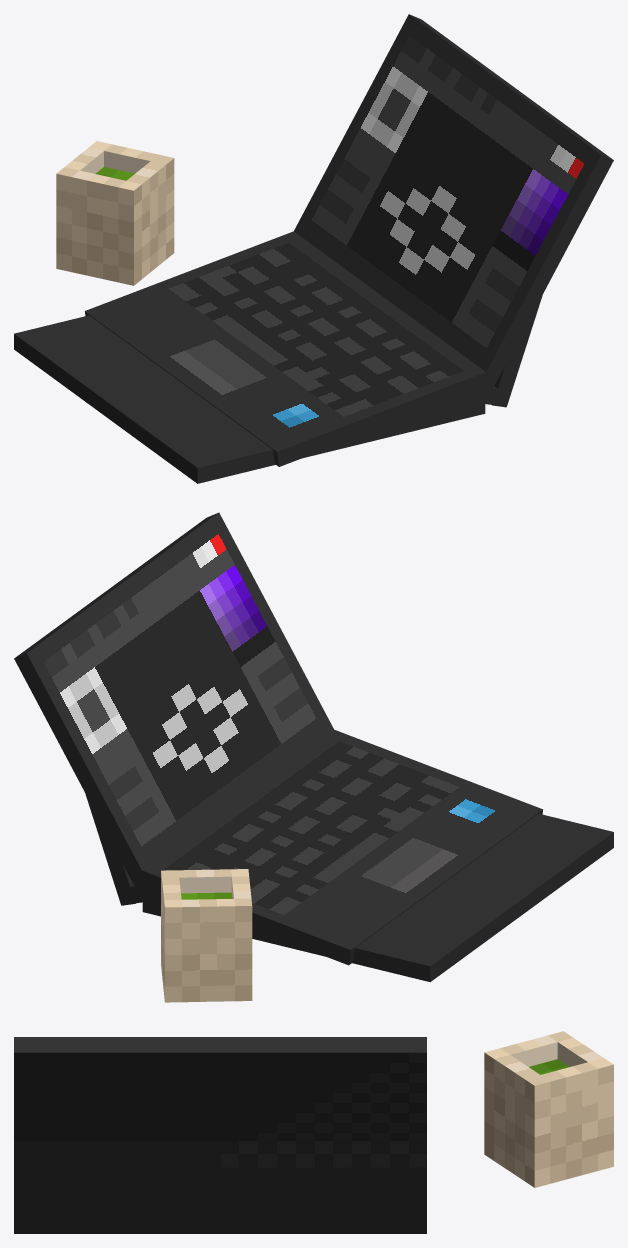
The model's file is pixel_laptop.glb.
3 renders of one model, top to bottom at view 1: azimuth 30°, elevation 25°; view 2: azimuth 150°, elevation 25°; view 3: azimuth 270°, elevation 25°, orthographic. The views are drawn at different scales.
Parts seen in each view (by area): view 1: cube_4, cube_0, cube_1, cube_10, cube_12, cube_11, cube_9, cube_2, cube_5, cube_13; view 2: cube_4, cube_0, cube_1, cube_11, cube_10, cube_9, cube_5; view 3: cube_4, cube_5, cube_6, cube_10, cube_13, cube_11, cube_9, cube_12, cube_14.
Part boxes in pixels (x1,y1,x2,y2): cube_4: (294,14,613,388); cube_0: (85,231,489,466); cube_1: (14,315,364,483); cube_10: (118,154,174,269); cube_12: (72,170,125,266); cube_11: (56,141,111,256); cube_9: (56,237,174,285); cube_2: (394,400,485,435); cube_5: (492,325,532,407); cube_13: (104,144,158,173); cube_4: (14,512,333,888); cube_0: (140,729,542,965); cube_1: (263,813,613,982); cube_11: (164,898,252,986); cube_10: (161,869,248,956); cube_9: (161,951,252,1002); cube_5: (95,824,135,905); cube_4: (14,1037,426,1140); cube_5: (14,1167,426,1233); cube_6: (14,1141,426,1180); cube_10: (484,1048,550,1170); cube_13: (541,1062,597,1166); cube_11: (548,1031,613,1153); cube_9: (484,1138,613,1187); cube_12: (500,1035,557,1066); cube_14: (529,1059,569,1074).
Bounding box in the file's own units: 1.7 × 0.9261 × 2.
Materials: 1 (1 with a texture image).
